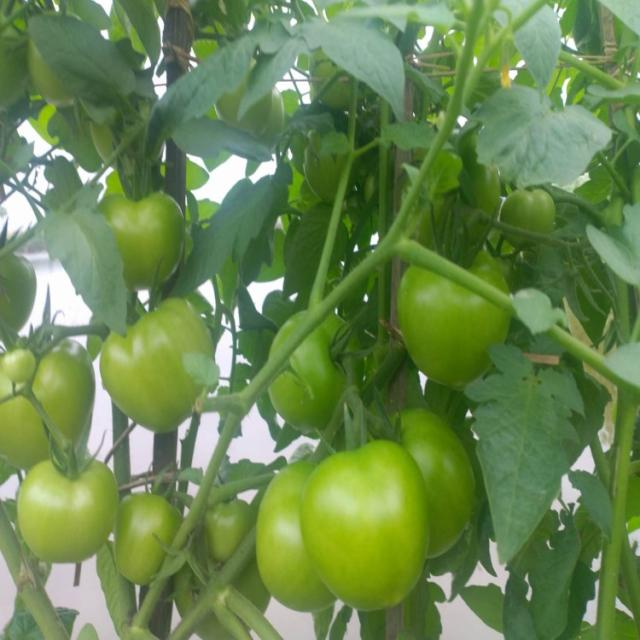tomato: (305, 439, 431, 605), (387, 398, 493, 569), (102, 305, 224, 443), (395, 249, 527, 375), (242, 444, 328, 615), (10, 444, 128, 568), (262, 312, 376, 430), (1, 341, 104, 469), (102, 190, 188, 295), (110, 481, 187, 587), (494, 183, 563, 247), (199, 498, 254, 566)
